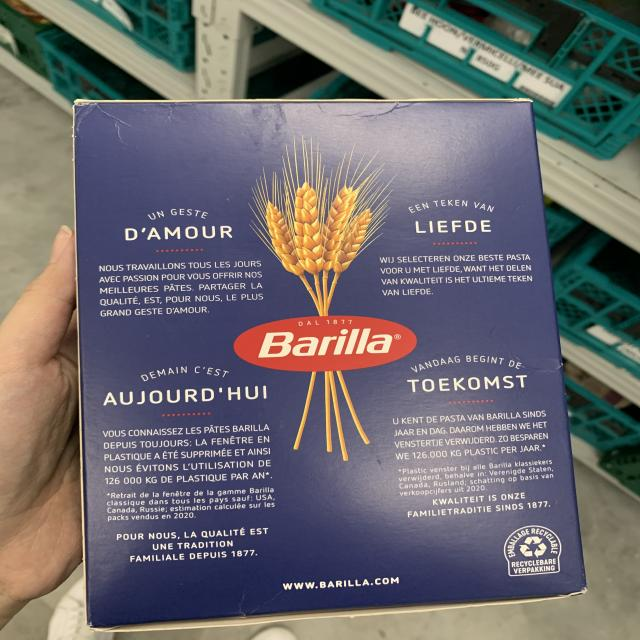object_name: (74, 96, 580, 599)
